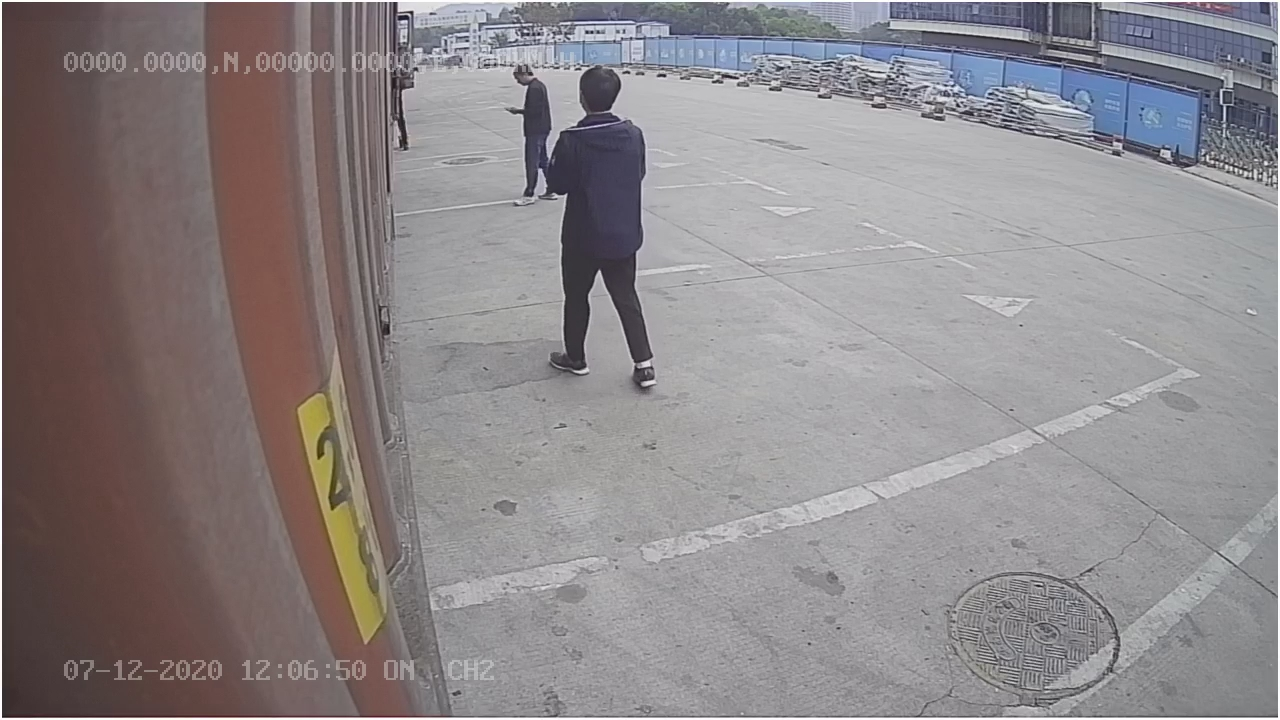person: (548, 65, 661, 383)
